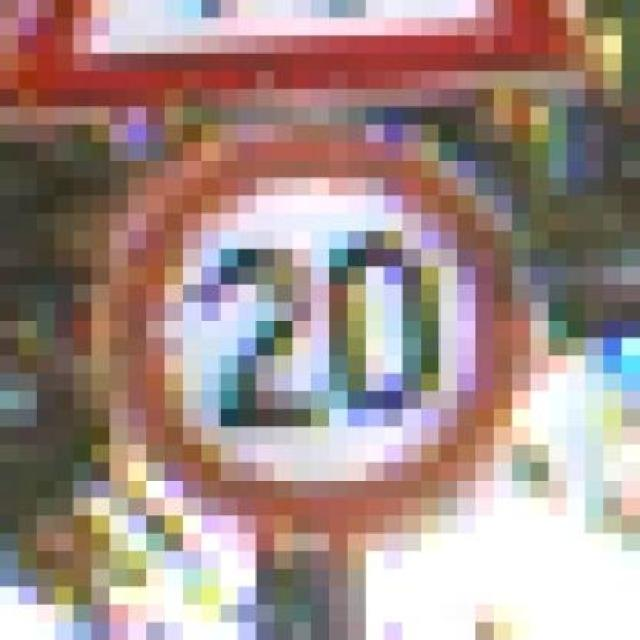forb_speed_over_20: (126, 139, 517, 518)
